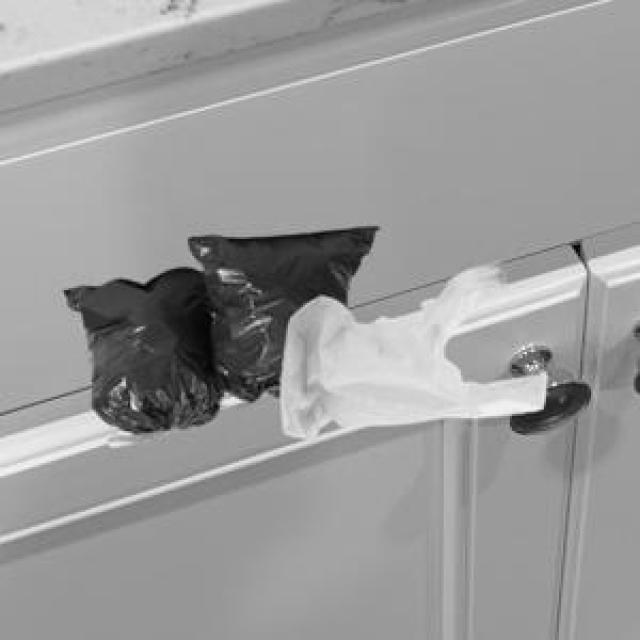miscellaneous trash: (63, 224, 373, 442)
